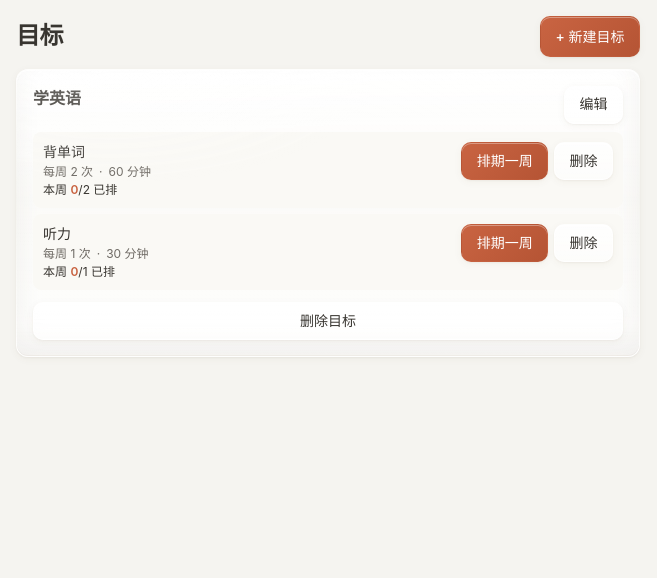
GoalView › 任务排期一周 → 预览（条数与任务频次一致、标题=任务名）→ 全部确认入库并消失
This screenshot has width=657, height=578.
Expected: the heading "学英语" is shown, [33,86,81,110]
Click the button with test id "task-schedule-btn" in the row of "60". click: (505, 161)
box: [461,142,548,180]
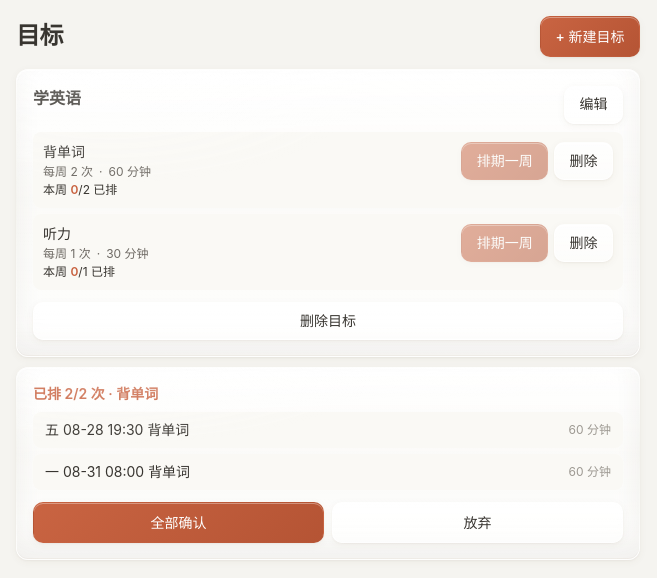
Result: the element with test id "schedule-preview" is shown at [16,367,640,560]
Result: the number of list items with test id "schedule-item" is 2 at [33,412,623,448]; [33,454,623,490]
Result: the text with test id "schedule-success" shows "已排 2/2 次" at [33,385,158,402]
Click the button "全部确认". click: (178, 522)
box: [33,502,324,543]
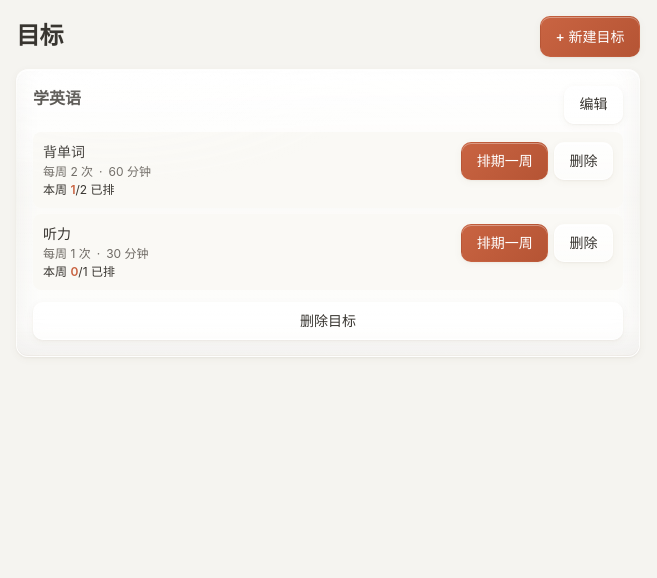
Result: the element with test id "schedule-preview" is gone
